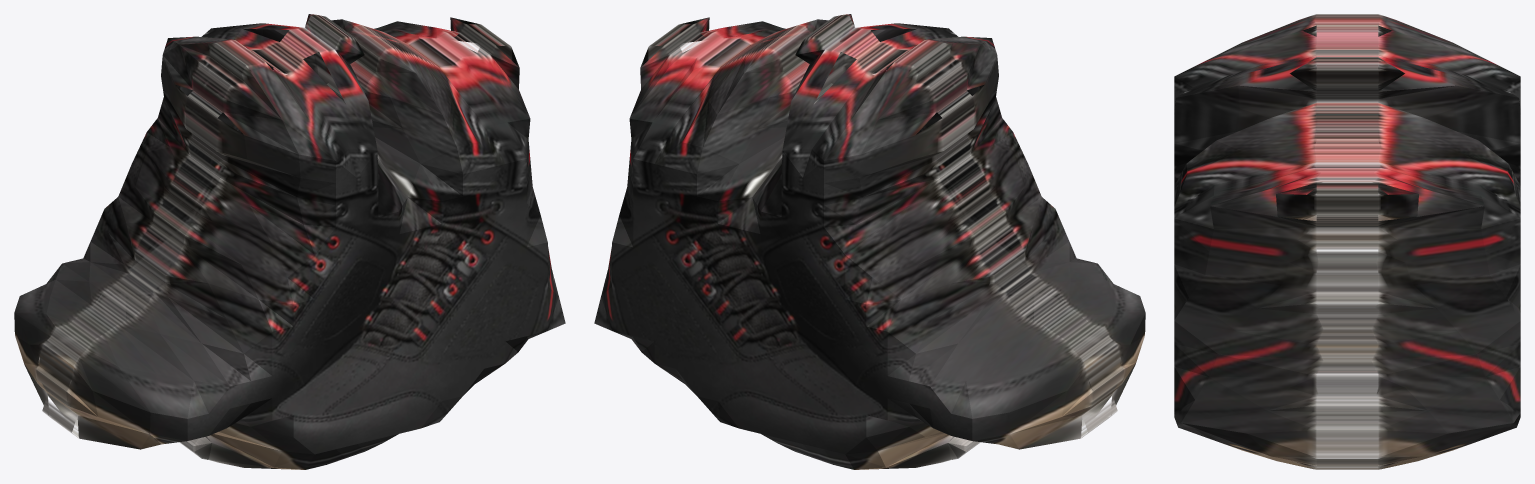
The model's file is cardo-apex-riding-boot-115.glb.
The picture shows the model from 3 angles, left to right: view 1: azimuth 30°, elevation 25°; view 2: azimuth 150°, elevation 25°; view 3: azimuth 270°, elevation 25°; orthographic projection. The views are drawn at different scales.
Visible parts, largest first — view 1: world; view 2: world; view 3: world.
Boxes of the visible parts, x1,y1,x2,y2 form: world: (14, 14, 565, 469); world: (594, 14, 1145, 469); world: (1174, 14, 1520, 469).
Size of the model in its own units: 1 by 0.8102 by 0.62.
Materials: 1 (1 with a texture image).
